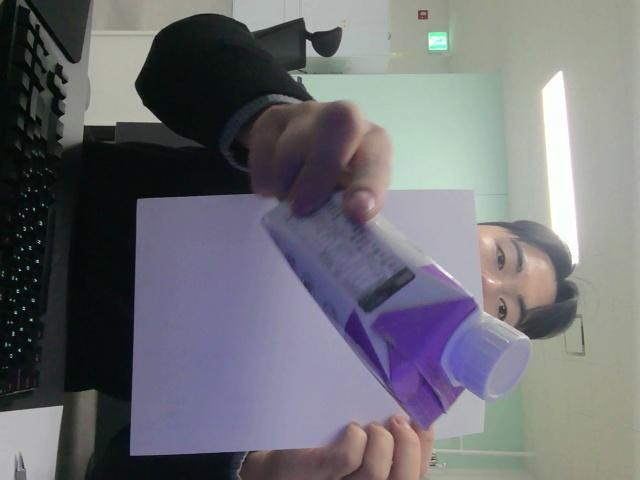milk: (264, 196, 530, 427)
